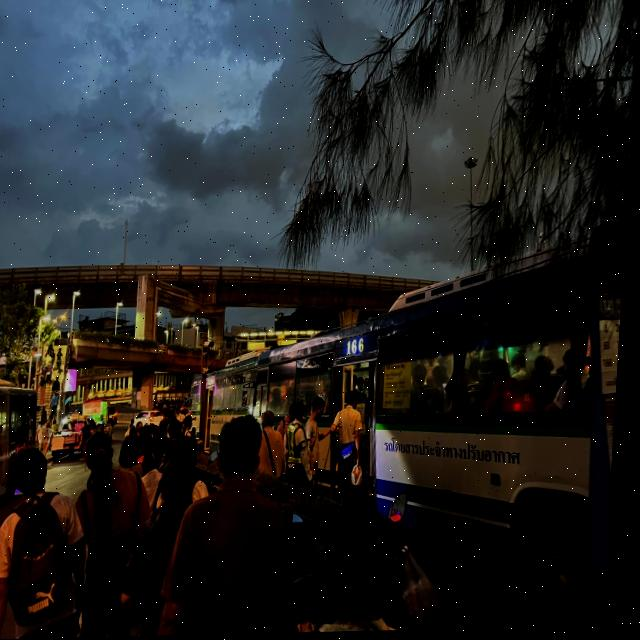BMTA-bus: (249, 233, 628, 563), (190, 350, 261, 449)
